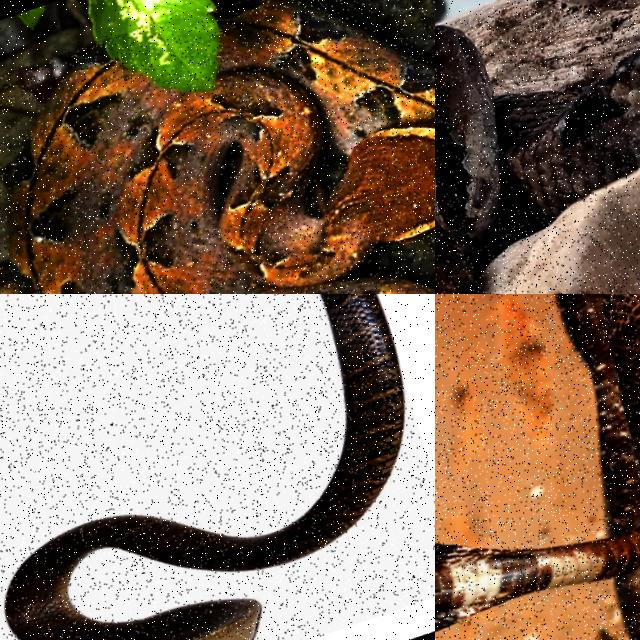Calloselasma rhodostoma: (1, 0, 434, 293), (435, 25, 639, 293)
Ophiophagus hannah: (6, 294, 403, 639), (435, 294, 639, 639)
snake: (6, 294, 403, 639), (1, 0, 434, 293), (435, 294, 639, 639), (435, 25, 639, 293)
